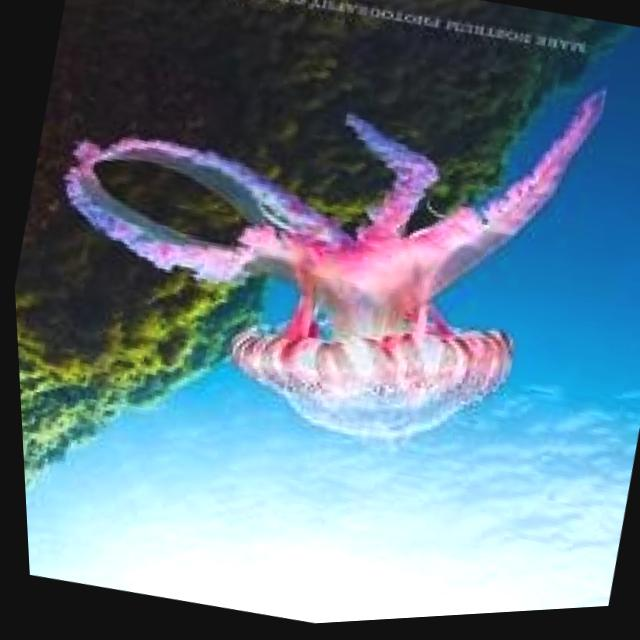Moon-jellyfish: (6, 0, 626, 503)
